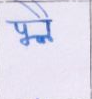o_matra: (41, 4, 54, 44)
